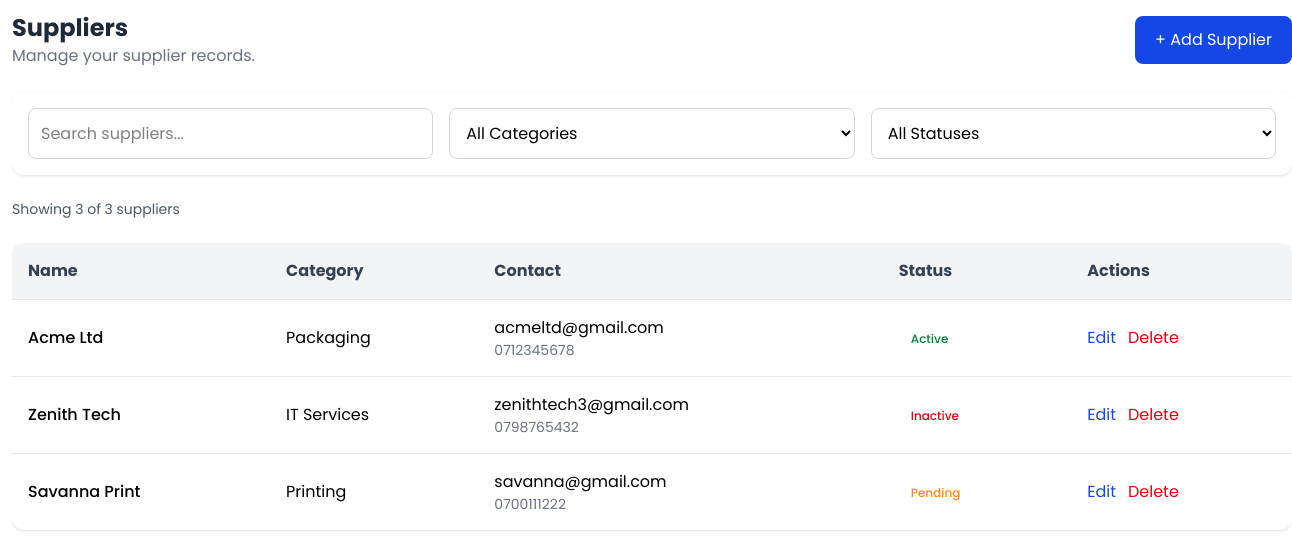
Suppliers Page › searches suppliers by name
Type "Acme" into the search field labelled "Search suppliers...".
click(231, 134); type("Acme")  # box [28,108,433,159]
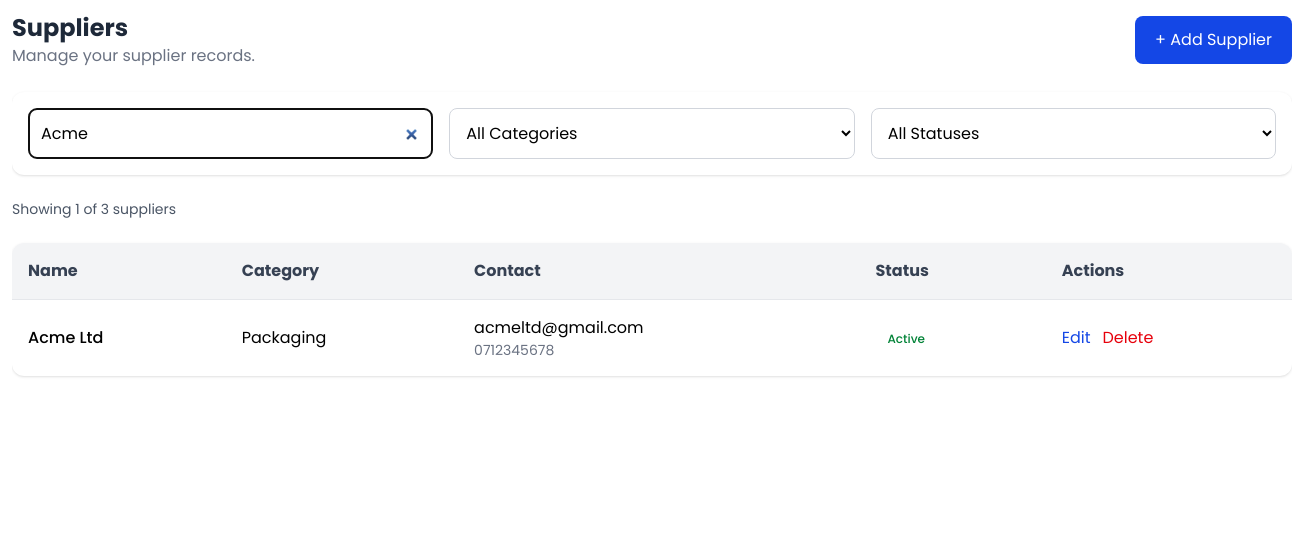
Expected: the text "Acme Ltd" is shown, [12,300,226,376]
Result: the text "Zenith Tech" is gone
Result: the text "Showing 1 of 3 suppliers" is shown at [12,199,176,219]
